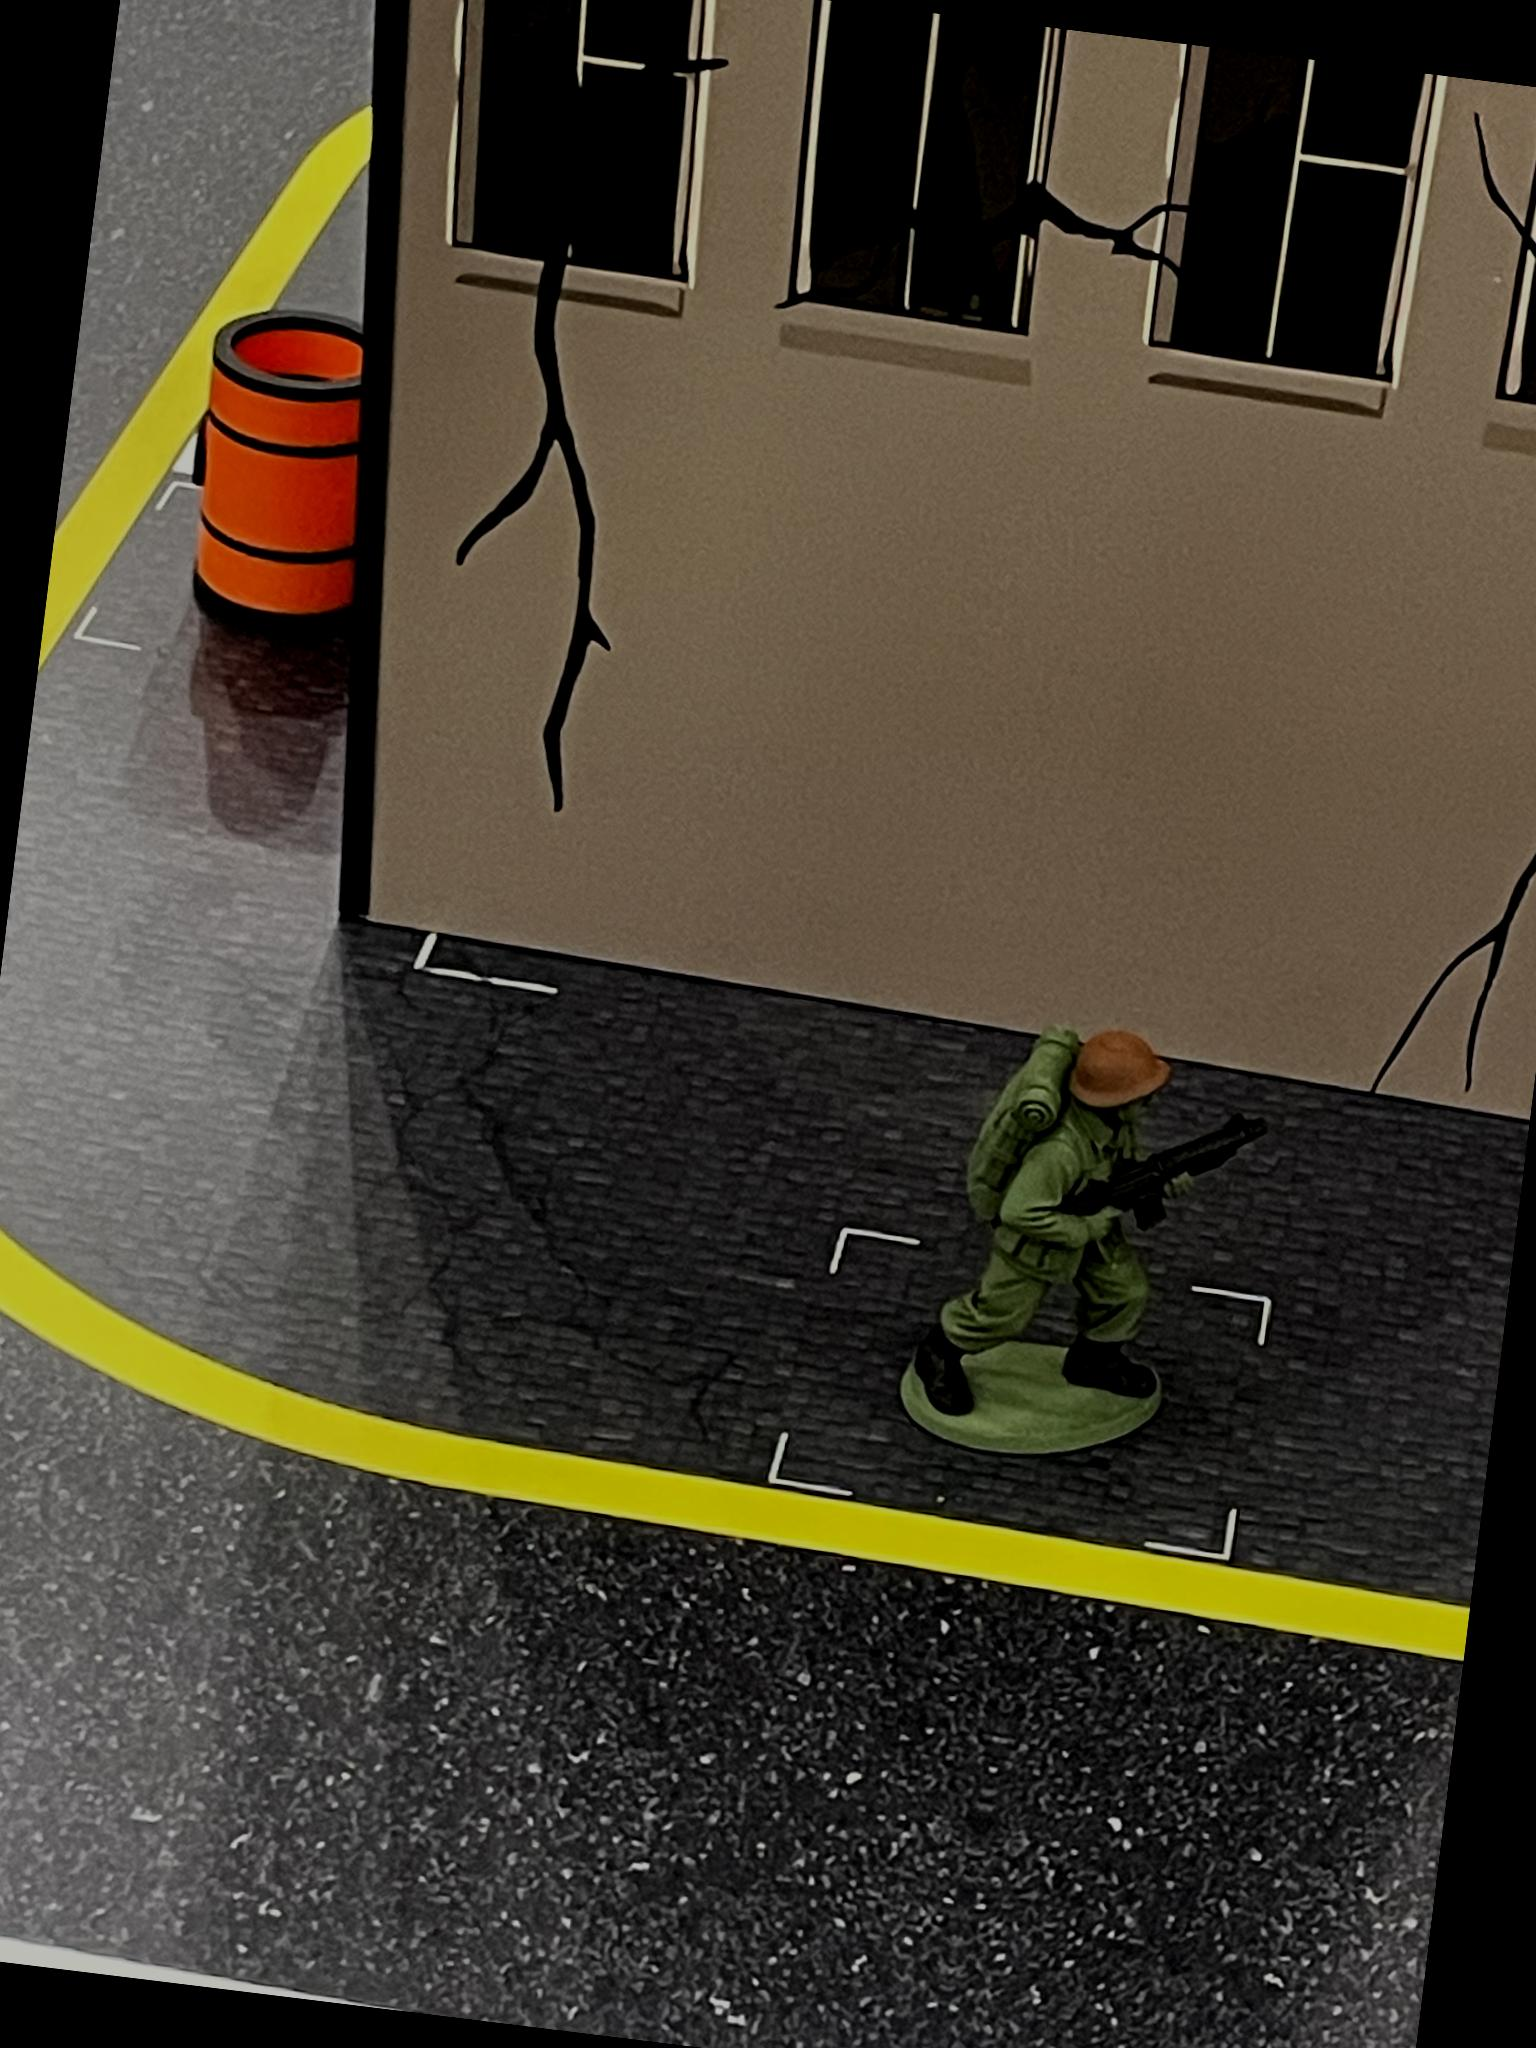Enemy: (879, 1008, 1273, 1508)
Hazmat: (165, 298, 395, 639)
